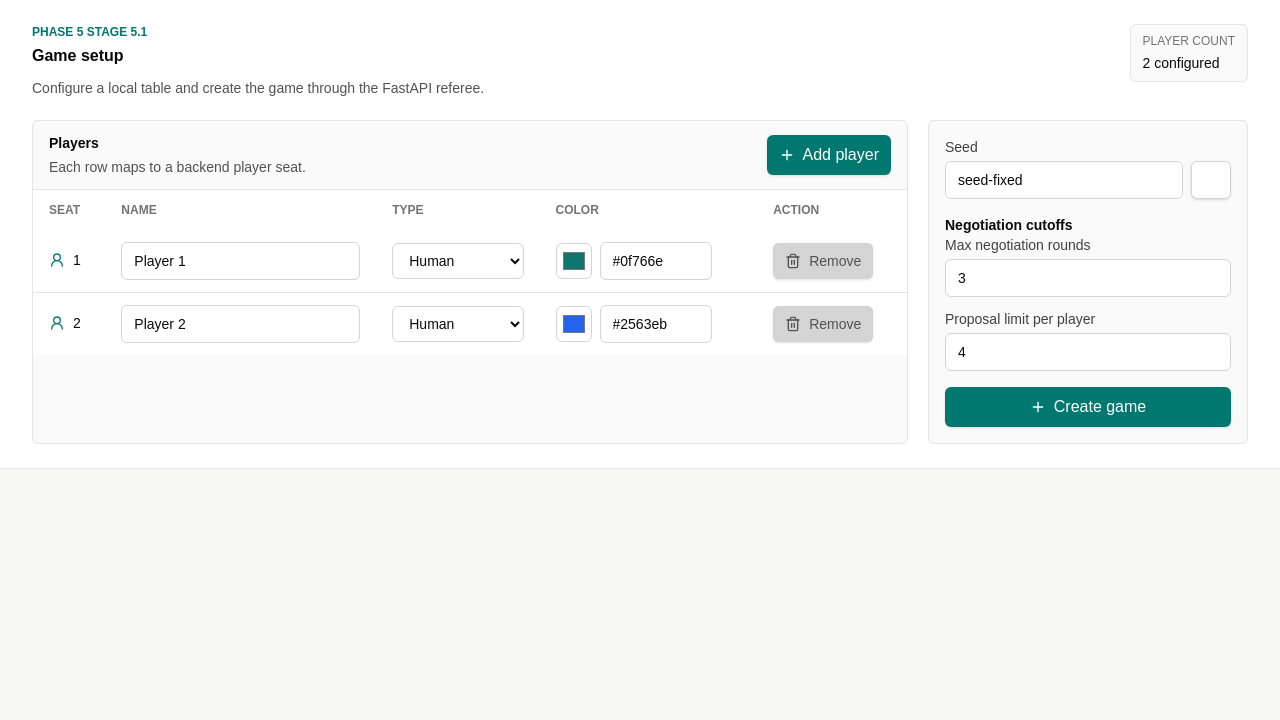
Test: GameSetupPanel › shows backend validation errors returned by the create-game API
Click the button "Create game" at (1088,407), box top-left (945, 387), bottom-right (1231, 427)
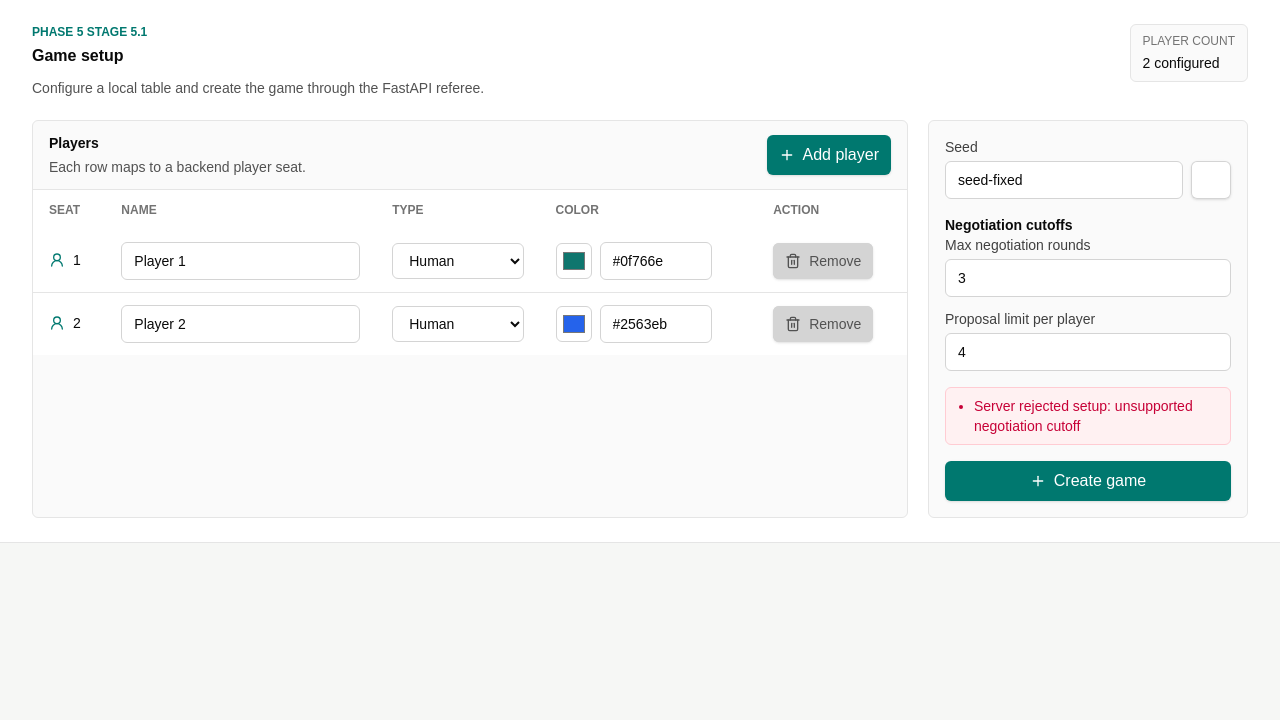
Now the message reads "Server rejected setup: unsupported negotiation cutoff", box top-left (974, 398), bottom-right (1193, 434)
